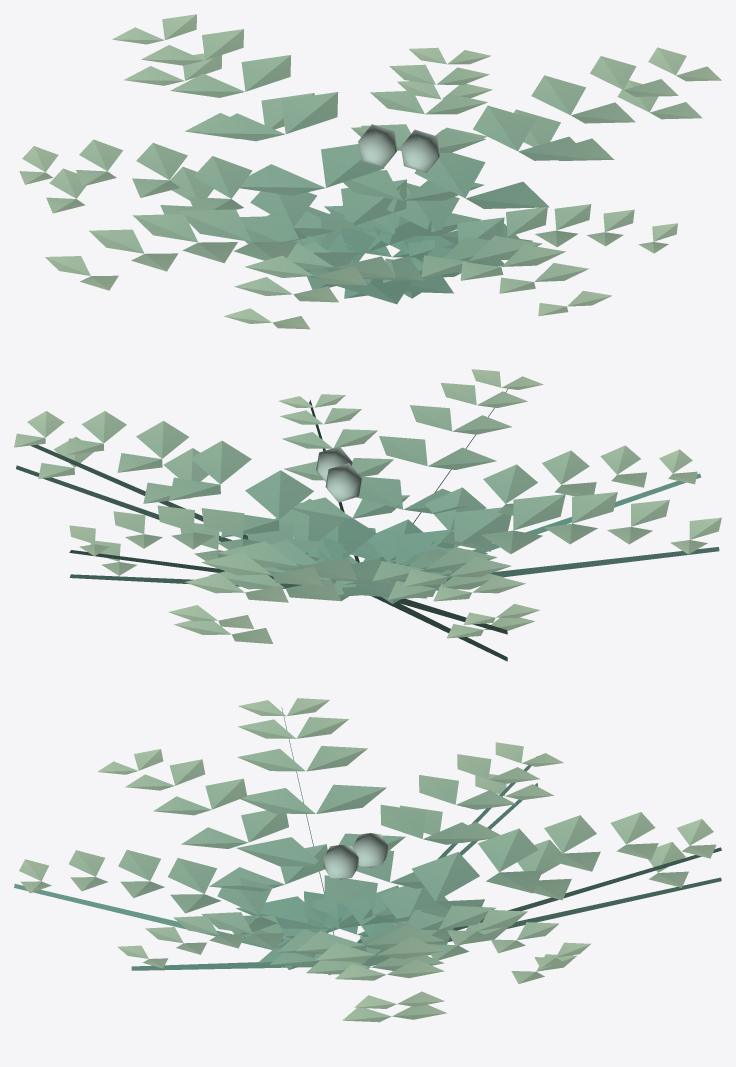
Rendered from fern.glb.
3 renders of one model, top to bottom at view 1: azimuth 30°, elevation 25°; view 2: azimuth 150°, elevation 25°; view 3: azimuth 270°, elevation 25°, orthographic. The views are drawn at different scales.
Visible parts, largest first — view 1: near, far; view 2: near, far; view 3: near, far.
Part boxes in pixels (x1=…): near: x1=19, y1=14, x2=721, y2=329; far: x1=46, y1=53, x2=702, y2=272; near: x1=14, y1=369, x2=721, y2=634; far: x1=16, y1=436, x2=534, y2=661; near: x1=14, y1=698, x2=721, y2=1008; far: x1=270, y1=774, x2=721, y2=1022.
Size of the model in its own units: 1.62 by 0.3261 by 1.55.
